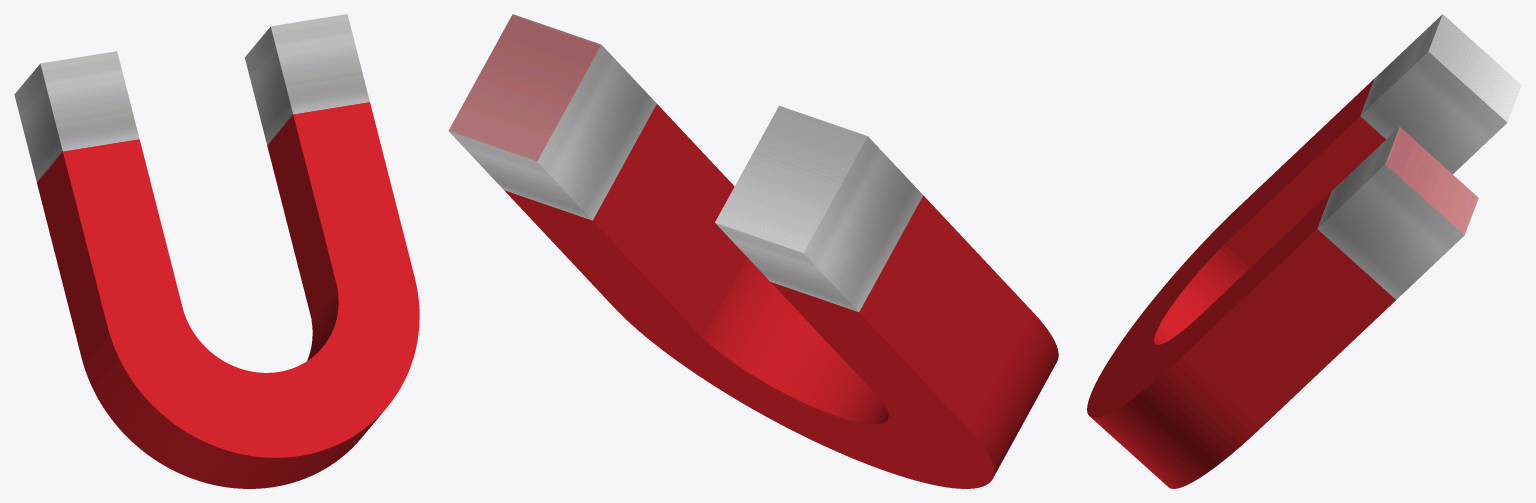
Rendered from MagnetSource.fbx.
3 renders of one model, left to right at view 1: azimuth 30°, elevation 25°; view 2: azimuth 150°, elevation 25°; view 3: azimuth 270°, elevation 25°, orthographic. The views are drawn at different scales.
Visible parts, largest first — view 1: node_id68, node_id62, node_id71, node_id65; view 2: node_id62, node_id68, node_id65, node_id71; view 3: node_id62, node_id68, node_id65, node_id71.
Part boxes in pixels (x1,y1,x2,y2): node_id68: (37, 139, 300, 488); node_id62: (267, 102, 419, 486); node_id71: (14, 51, 139, 182); node_id65: (244, 14, 369, 145); node_id62: (504, 104, 888, 471); node_id68: (771, 196, 1058, 488); node_id65: (448, 14, 656, 220); node_id71: (715, 105, 923, 312); node_id62: (1087, 192, 1395, 488); node_id68: (1091, 79, 1385, 393); node_id65: (1317, 127, 1478, 299); node_id71: (1360, 14, 1521, 174).
Bounding box in the file's own units: 0.0546 × 0.059 × 0.059.
Materials: 4 (4 with a texture image).
